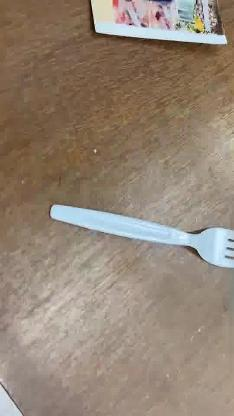Others: (49, 204, 233, 268)
